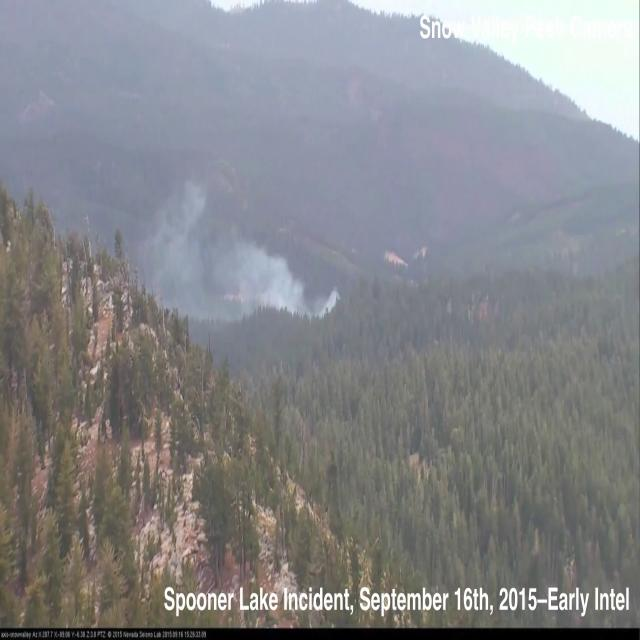smoke: (130, 163, 342, 342)
